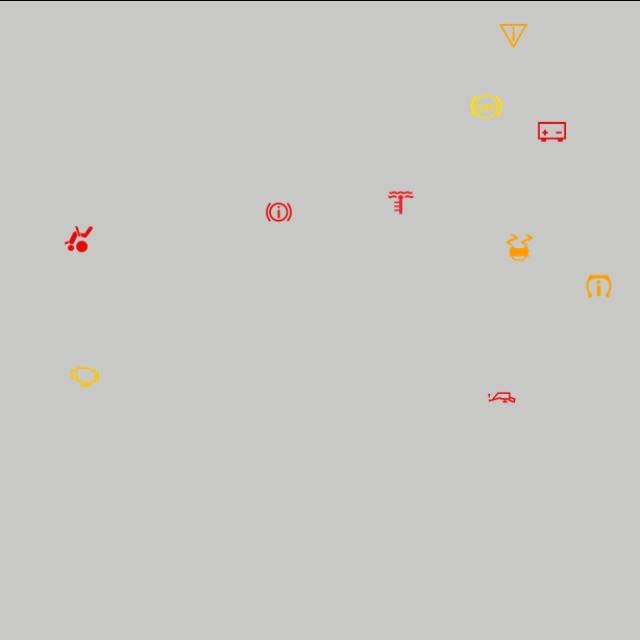Anti Lock Braking System: (469, 89, 504, 123)
Braking System Issue: (262, 194, 296, 228)
Charging System Issue: (535, 114, 569, 148)
Check Engine: (68, 358, 102, 394)
Electronic Stability Problem -ESP-: (502, 230, 536, 264)
Engine Overheating Warning Light: (384, 184, 418, 218)
Low Engine Oil Warning Light: (485, 379, 519, 414)
Low Tire Pressure Warning Light: (582, 268, 616, 302)
Master warning light: (496, 18, 530, 52)
SRS-Airbag: (61, 221, 95, 255)
